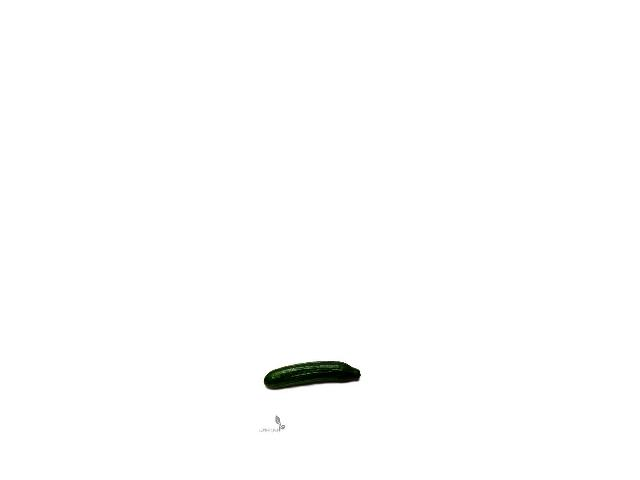cucumber: (263, 361, 360, 388)
